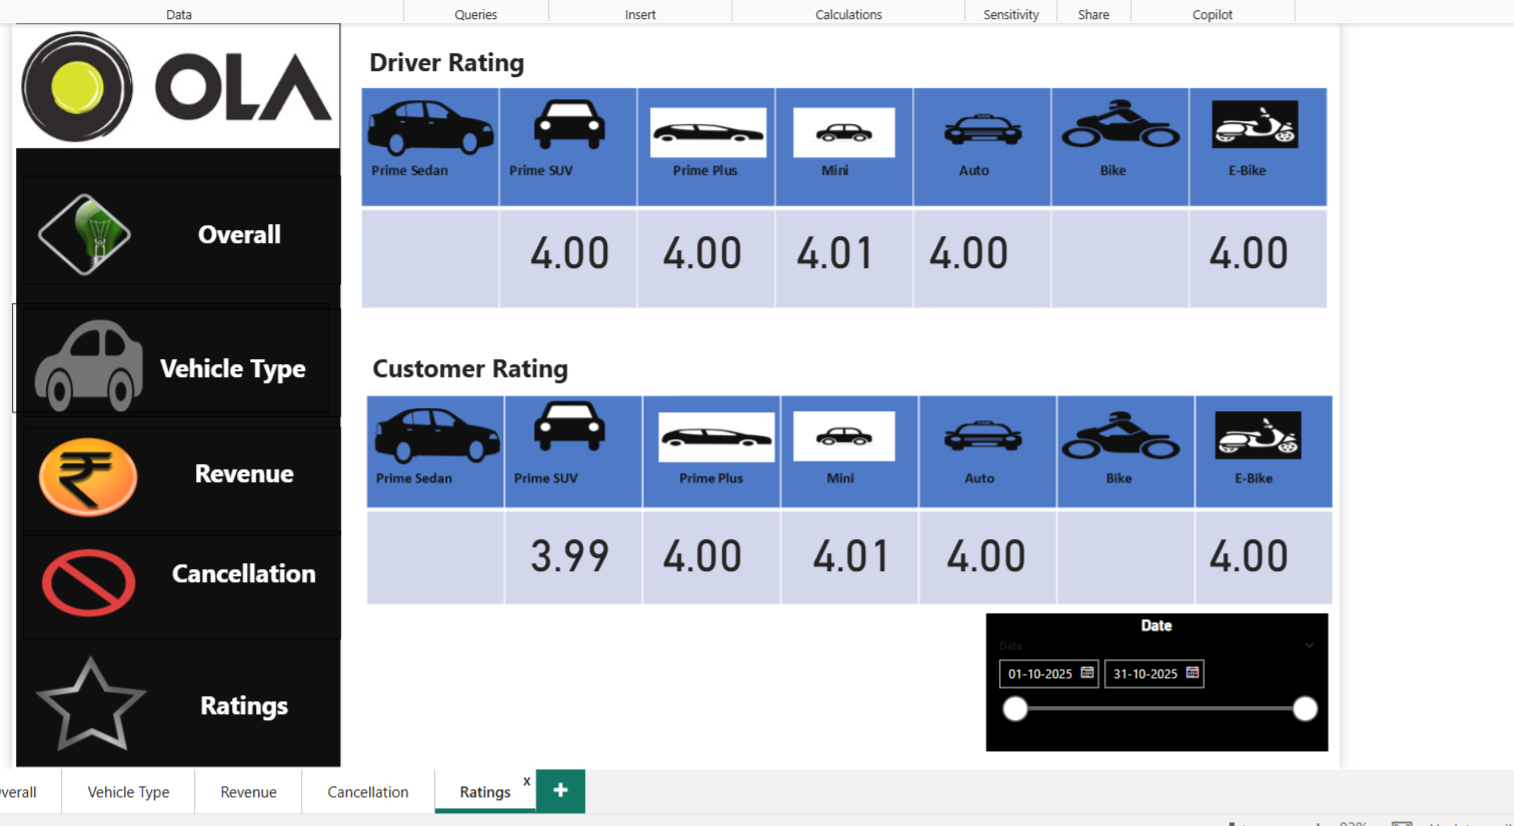

What the dashboard file says about the page in this screenshot:
{"tool":"powerbi","page":{"name":"Ratings","canvas":[1280,720],"ordinal":4},"visuals":[{"type":"actionButton","box":[10.9,275.1,306.4,105],"z":0},{"type":"actionButton","box":[10.9,489.8,306.4,105],"z":1000},{"type":"actionButton","box":[10.9,389.7,306.4,105],"z":2000},{"type":"actionButton","box":[0,270.3,306,105.7],"z":3000},{"type":"actionButton","box":[10.9,147.2,306.4,105],"z":4000},{"type":"card","fields":{"Values":["Avg(Bengaluru_Ride_Booking_Data_Oct2025 (2).Driver_Rating)"]},"box":[474,182.7,128.4,69.1],"z":5000},{"type":"card","fields":{"Values":["Avg(Bengaluru_Ride_Booking_Data_Oct2025 (2).Driver_Rating)"]},"box":[602.3,182.7,128.4,69.1],"z":6000},{"type":"card","fields":{"Values":["Avg(Bengaluru_Ride_Booking_Data_Oct2025 (2).Driver_Rating)"]},"box":[730.7,182.7,128.4,69.1],"z":7000},{"type":"card","fields":{"Values":["Avg(Bengaluru_Ride_Booking_Data_Oct2025 (2).Driver_Rating)"]},"box":[859,182.7,128.4,69.1],"z":8000},{"type":"card","fields":{"Values":["Avg(Bengaluru_Ride_Booking_Data_Oct2025 (2).Driver_Rating)"]},"box":[1128.9,182.7,128.4,69.1],"z":9000},{"type":"card","fields":{"Values":["Avg(Bengaluru_Ride_Booking_Data_Oct2025 (2).Customer_Rating)"]},"box":[474,474,128.4,69.1],"z":10000},{"type":"card","fields":{"Values":["Avg(Bengaluru_Ride_Booking_Data_Oct2025 (2).Customer_Rating)"]},"box":[602.3,474,128.4,69.1],"z":11000},{"type":"card","fields":{"Values":["Avg(Bengaluru_Ride_Booking_Data_Oct2025 (2).Customer_Rating)"]},"box":[747.1,474,128.4,69.1],"z":12000},{"type":"card","fields":{"Values":["Avg(Bengaluru_Ride_Booking_Data_Oct2025 (2).Customer_Rating)"]},"box":[875.5,474,128.4,69.1],"z":13000},{"type":"card","fields":{"Values":["Avg(Bengaluru_Ride_Booking_Data_Oct2025 (2).Customer_Rating)"]},"box":[1128.9,474,128.4,69.1],"z":14000},{"type":"textbox","box":[333.4,15.1,172.9,59],"z":15000},{"type":"textbox","box":[343.1,311.5,296.4,48],"z":16000},{"type":"slicer","title":"Date","fields":{"Values":["Bengaluru_Ride_Booking_Data_Oct2025 (2).Date"]},"box":[940,569.5,329.3,133.1],"z":17000},{"type":"textbox","box":[144.1,182.5,137.2,43.9],"z":18000},{"type":"textbox","box":[133.1,311.5,160.5,48],"z":19000},{"type":"textbox","box":[144.1,413,160.5,60.4],"z":20000},{"type":"textbox","box":[144.1,509.1,160.5,71.4],"z":21000},{"type":"textbox","box":[144.1,636.7,160.5,52.1],"z":22000}]}

Visuals, with their boxes on the page's 1280x720 design canvas (x1, y1, x2, y2). These are canvas units, not pixel positions in the 1514x826 screenshot, which may show the page scaled, cropped or inside an application window:
actionButton: [11, 275, 317, 380]
actionButton: [11, 490, 317, 595]
actionButton: [11, 390, 317, 495]
actionButton: [0, 270, 306, 376]
actionButton: [11, 147, 317, 252]
card - Avg(Bengaluru_Ride_Booking_Data_Oct2025 (2).Driver_Rating): [474, 183, 602, 252]
card - Avg(Bengaluru_Ride_Booking_Data_Oct2025 (2).Driver_Rating): [602, 183, 731, 252]
card - Avg(Bengaluru_Ride_Booking_Data_Oct2025 (2).Driver_Rating): [731, 183, 859, 252]
card - Avg(Bengaluru_Ride_Booking_Data_Oct2025 (2).Driver_Rating): [859, 183, 987, 252]
card - Avg(Bengaluru_Ride_Booking_Data_Oct2025 (2).Driver_Rating): [1129, 183, 1257, 252]
card - Avg(Bengaluru_Ride_Booking_Data_Oct2025 (2).Customer_Rating): [474, 474, 602, 543]
card - Avg(Bengaluru_Ride_Booking_Data_Oct2025 (2).Customer_Rating): [602, 474, 731, 543]
card - Avg(Bengaluru_Ride_Booking_Data_Oct2025 (2).Customer_Rating): [747, 474, 876, 543]
card - Avg(Bengaluru_Ride_Booking_Data_Oct2025 (2).Customer_Rating): [876, 474, 1004, 543]
card - Avg(Bengaluru_Ride_Booking_Data_Oct2025 (2).Customer_Rating): [1129, 474, 1257, 543]
textbox: [333, 15, 506, 74]
textbox: [343, 312, 640, 360]
"Date" slicer: [940, 570, 1269, 703]
textbox: [144, 182, 281, 226]
textbox: [133, 312, 294, 360]
textbox: [144, 413, 305, 473]
textbox: [144, 509, 305, 580]
textbox: [144, 637, 305, 689]
